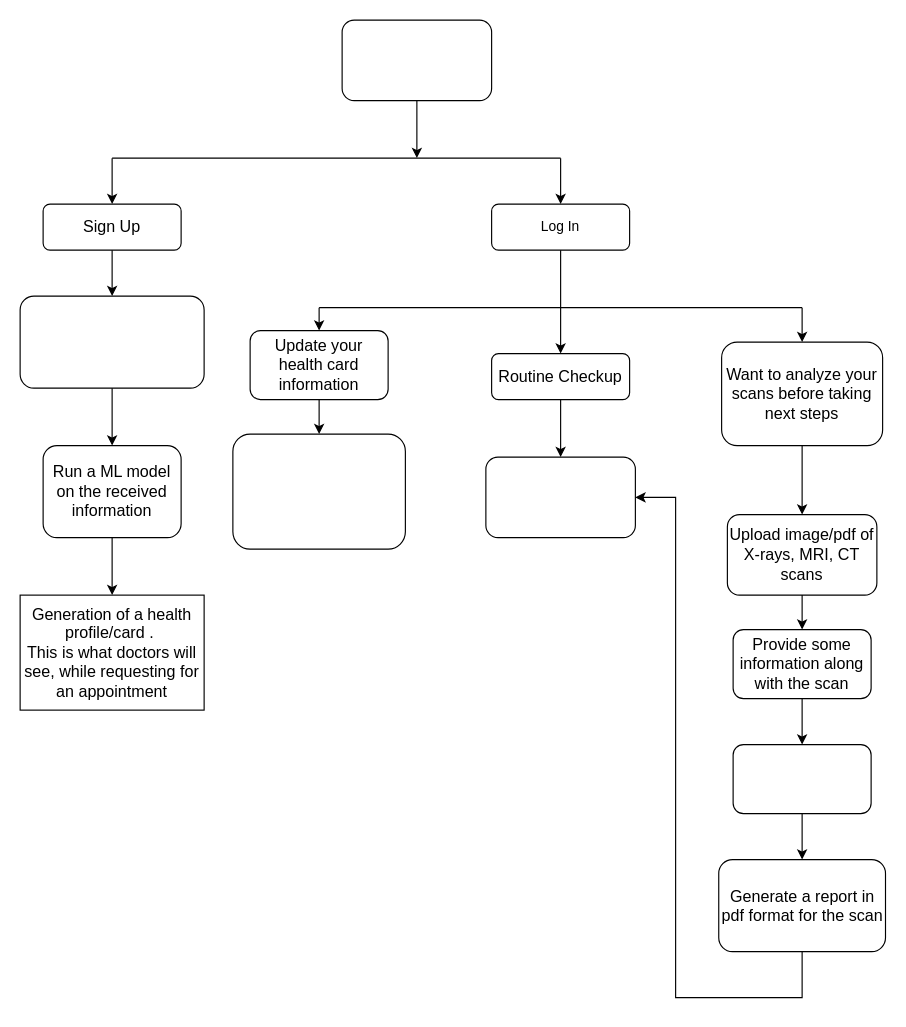
This 906x1027 diagram has some shape labels left out. The shapes that lost their labels are listed below. From the top down, each one's centre as x and y in pixels, then its label:
[416,60]: Web App
[111,341]: Provide basic health information through a questionnaire
[318,491]: Trigger the same ML model to regenerate the profile for updated information
[560,497]: Book Appointment with nearby doctors or experts
[801,778]: Run a ML model on the scan and the information
